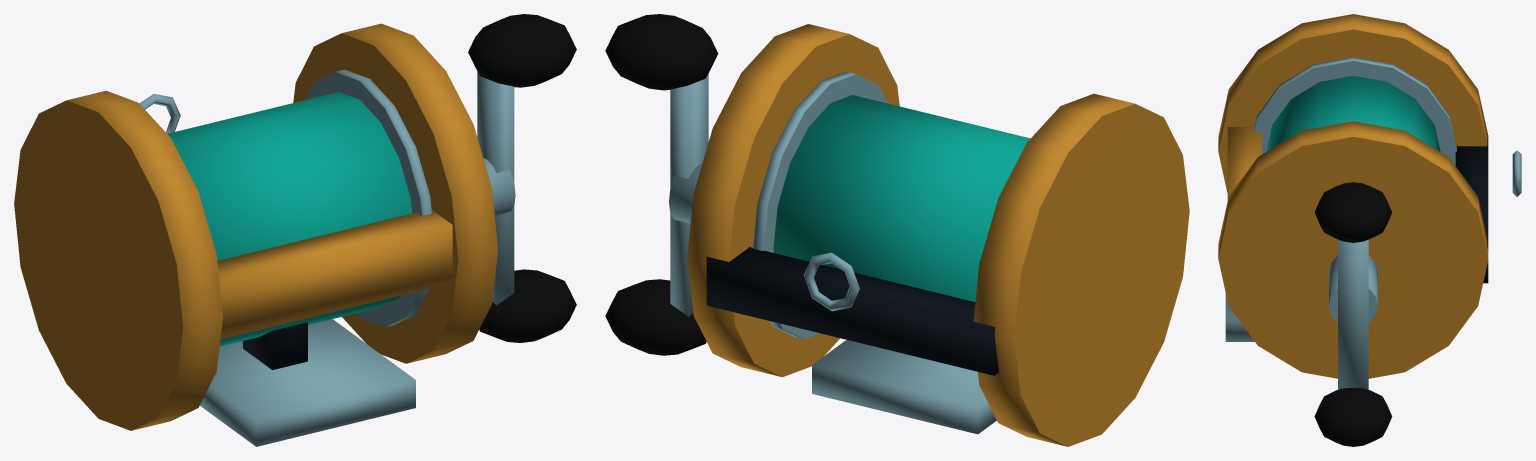
The model's file is long.glb.
The picture shows the model from 3 angles, left to right: view 1: azimuth 30°, elevation 25°; view 2: azimuth 150°, elevation 25°; view 3: azimuth 270°, elevation 25°; orthographic projection. The views are drawn at different scales.
Parts seen in each view (by area): view 1: Body, Spool, Crank; view 2: Body, Spool, Crank; view 3: Body, Crank, Spool.
Boxes of the visible parts, <box> form: Body: <box>14,23,498,446</box>; Spool: <box>167,69,431,346</box>; Crank: <box>468,14,576,342</box>; Body: <box>687,24,1189,446</box>; Spool: <box>753,71,1030,339</box>; Crank: <box>605,14,718,355</box>; Body: <box>1218,14,1521,378</box>; Crank: <box>1314,182,1392,446</box>; Spool: <box>1254,57,1456,165</box>.
Size of the model in its own units: 2.13 by 1.41 by 1.48.
1 material, 1 textured.
